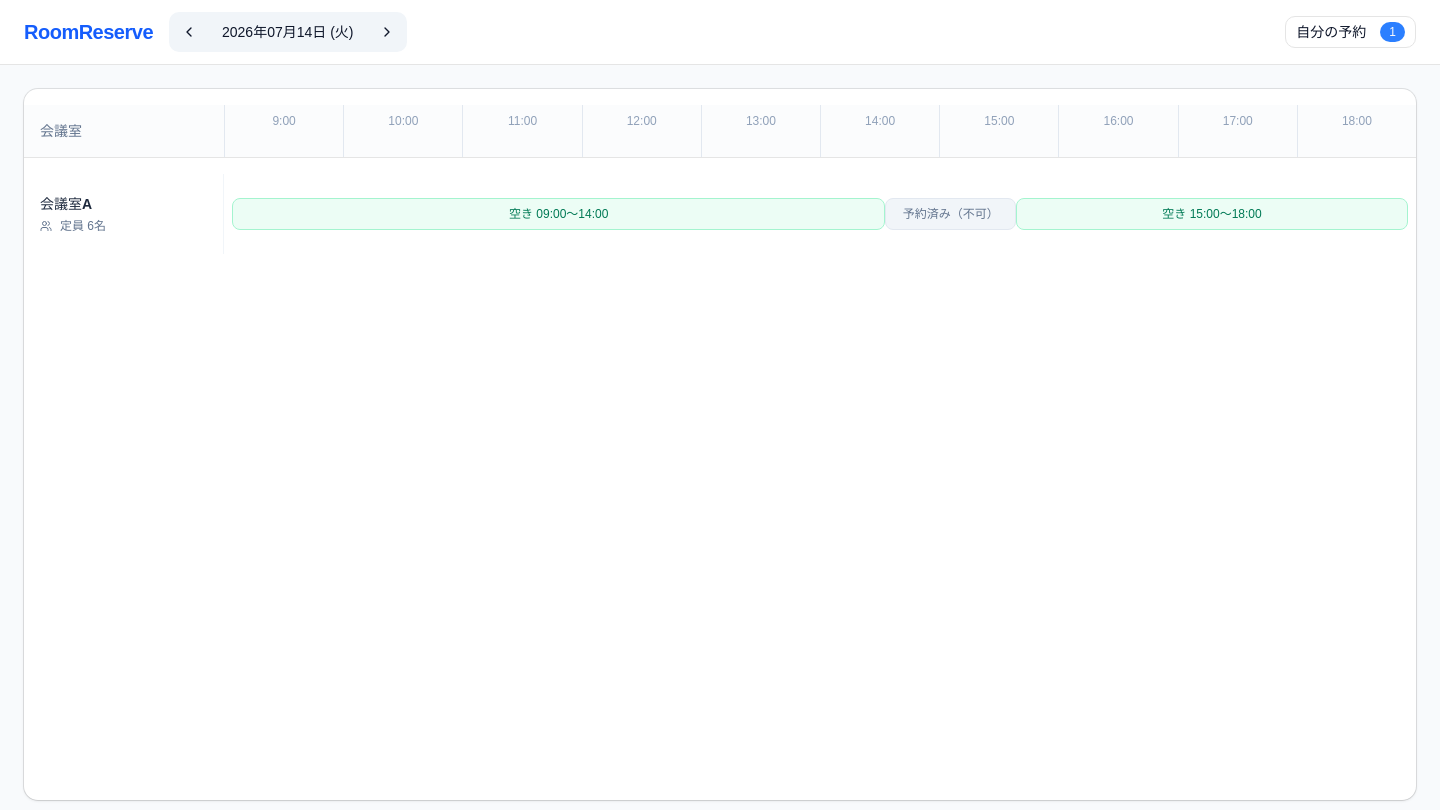
it: 自分の予約(RFE-C) › 自分の予約をキャンセルすると、一覧からも空き状況からも消える
Click the button "自分の予約 1" at (1351, 32), box [1285,16,1416,48]
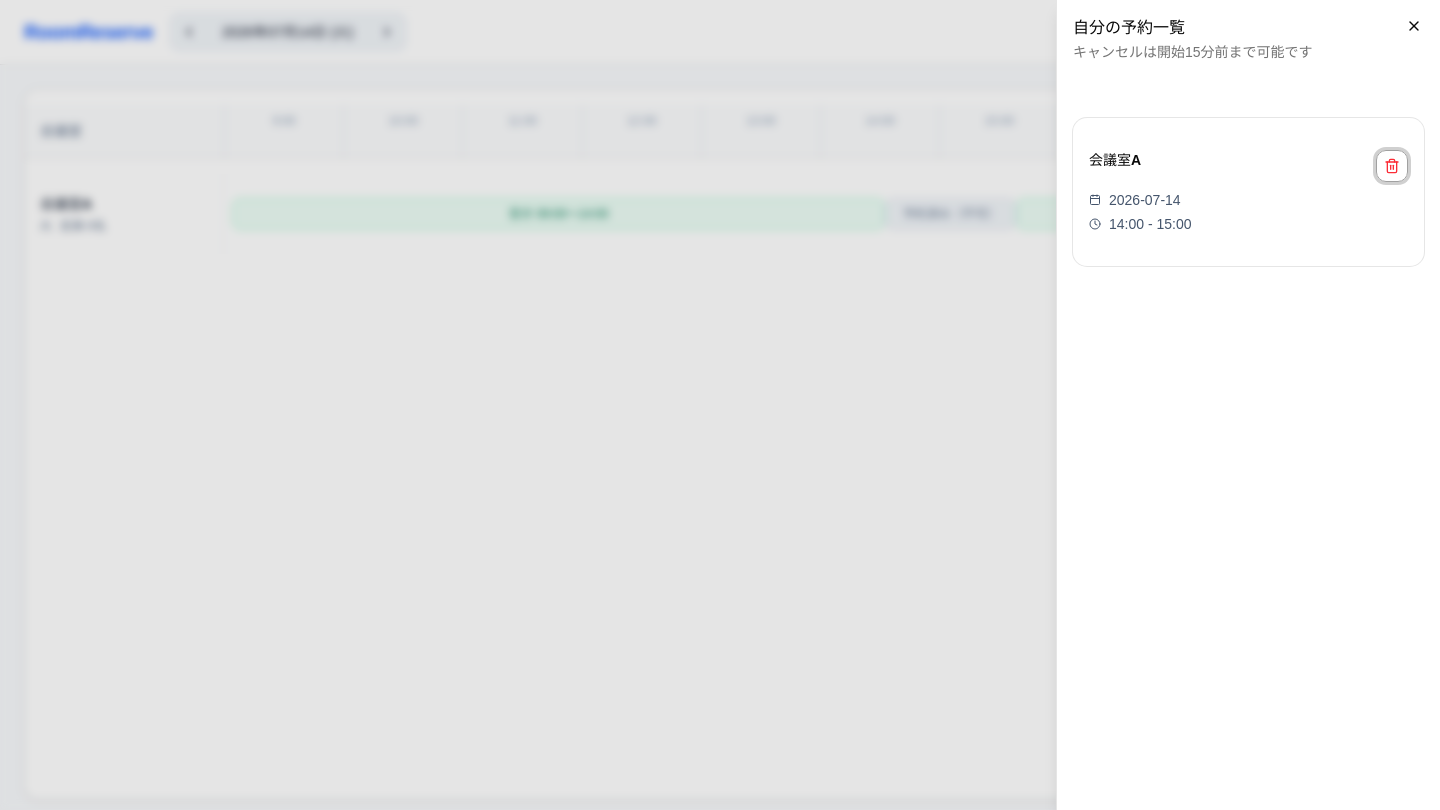
expect the text "14:00 - 15:00" is shown: met, box [1089,216,1192,232]
Click the button named "キャンセル" at (1392, 166), box [1376,150,1408,182]
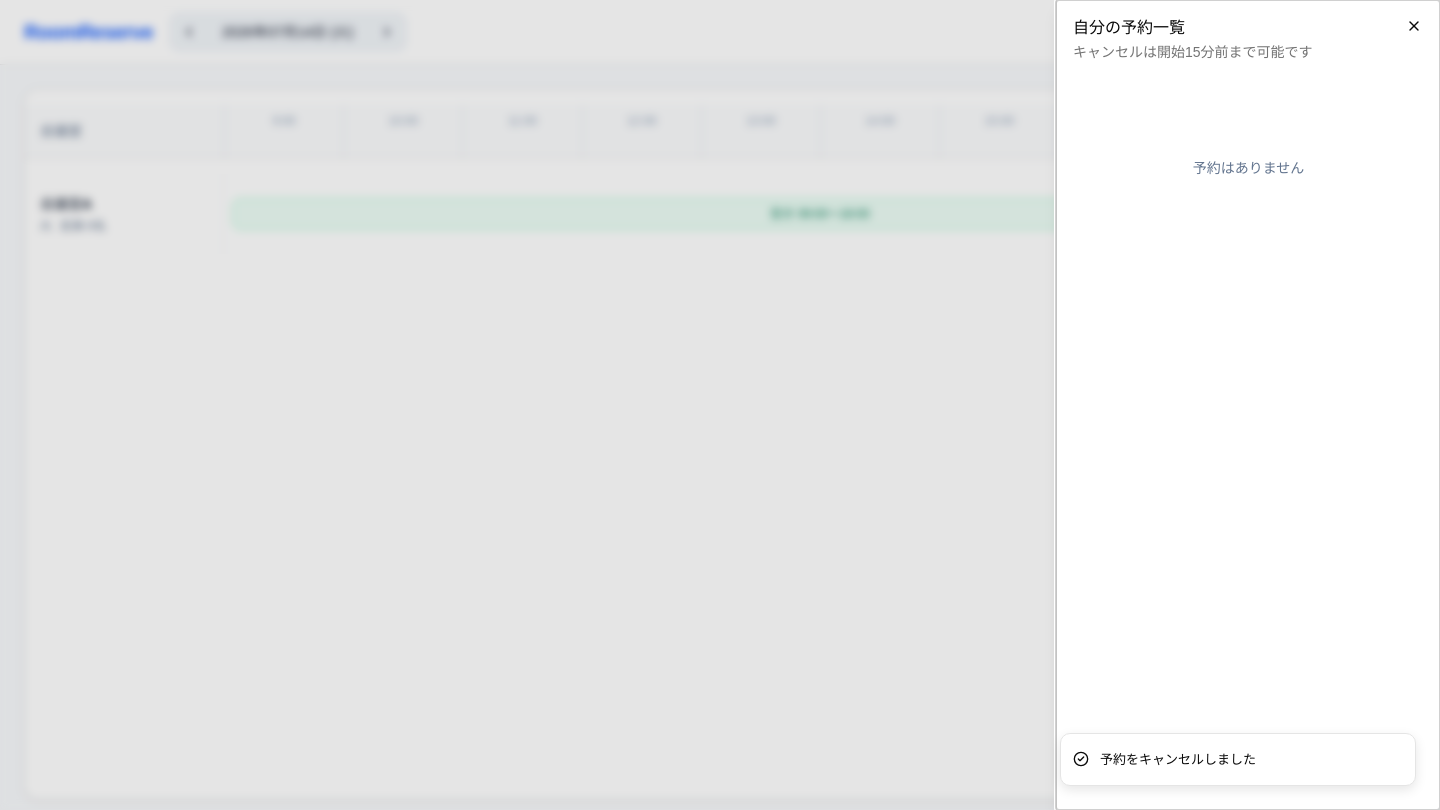
expect the text "14:00 - 15:00" is gone: met
expect the text "予約はありません" is shown: met, box [1193,160,1304,176]
expect the button "空き 09:00〜14:00" is gone: met
